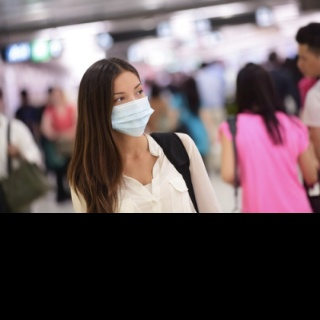with_mask: (109, 80, 156, 137)
